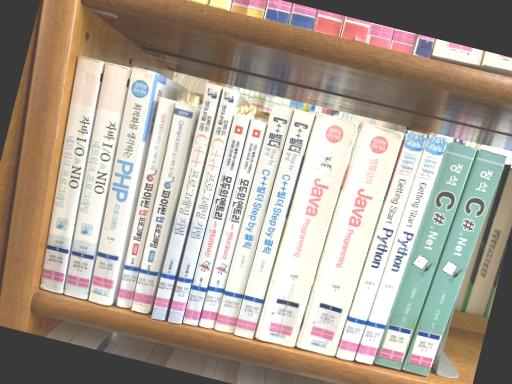book-spine: (295, 123, 403, 357), (255, 113, 358, 347), (402, 149, 506, 376), (374, 143, 476, 370), (355, 135, 447, 364), (336, 130, 427, 361), (233, 110, 315, 339), (214, 104, 293, 334), (150, 82, 221, 320), (168, 87, 237, 323), (63, 62, 131, 300), (87, 68, 155, 305), (40, 55, 104, 294), (198, 120, 267, 328), (183, 114, 250, 326), (130, 102, 194, 314), (116, 97, 175, 309)
